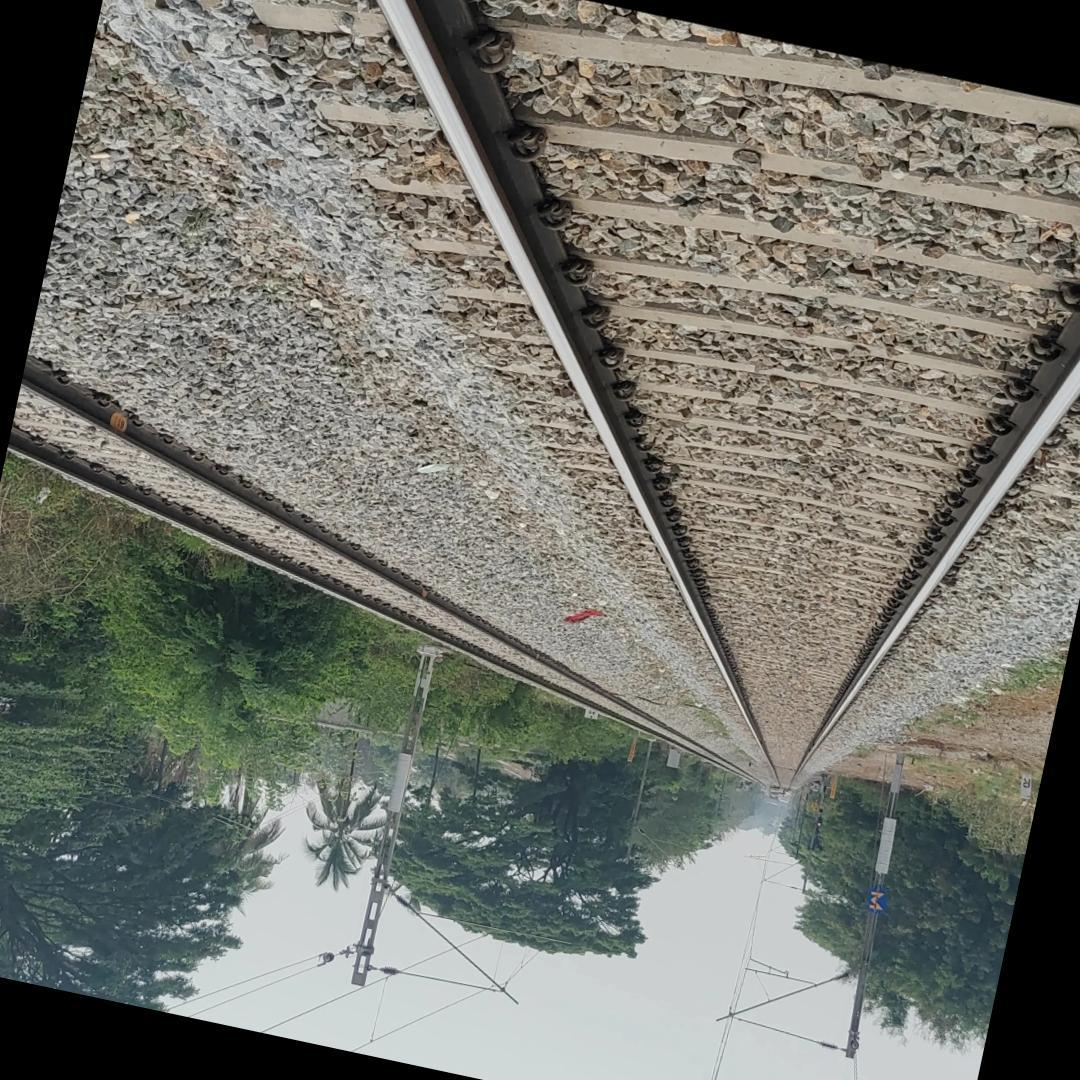track: (276, 0, 1080, 801)
